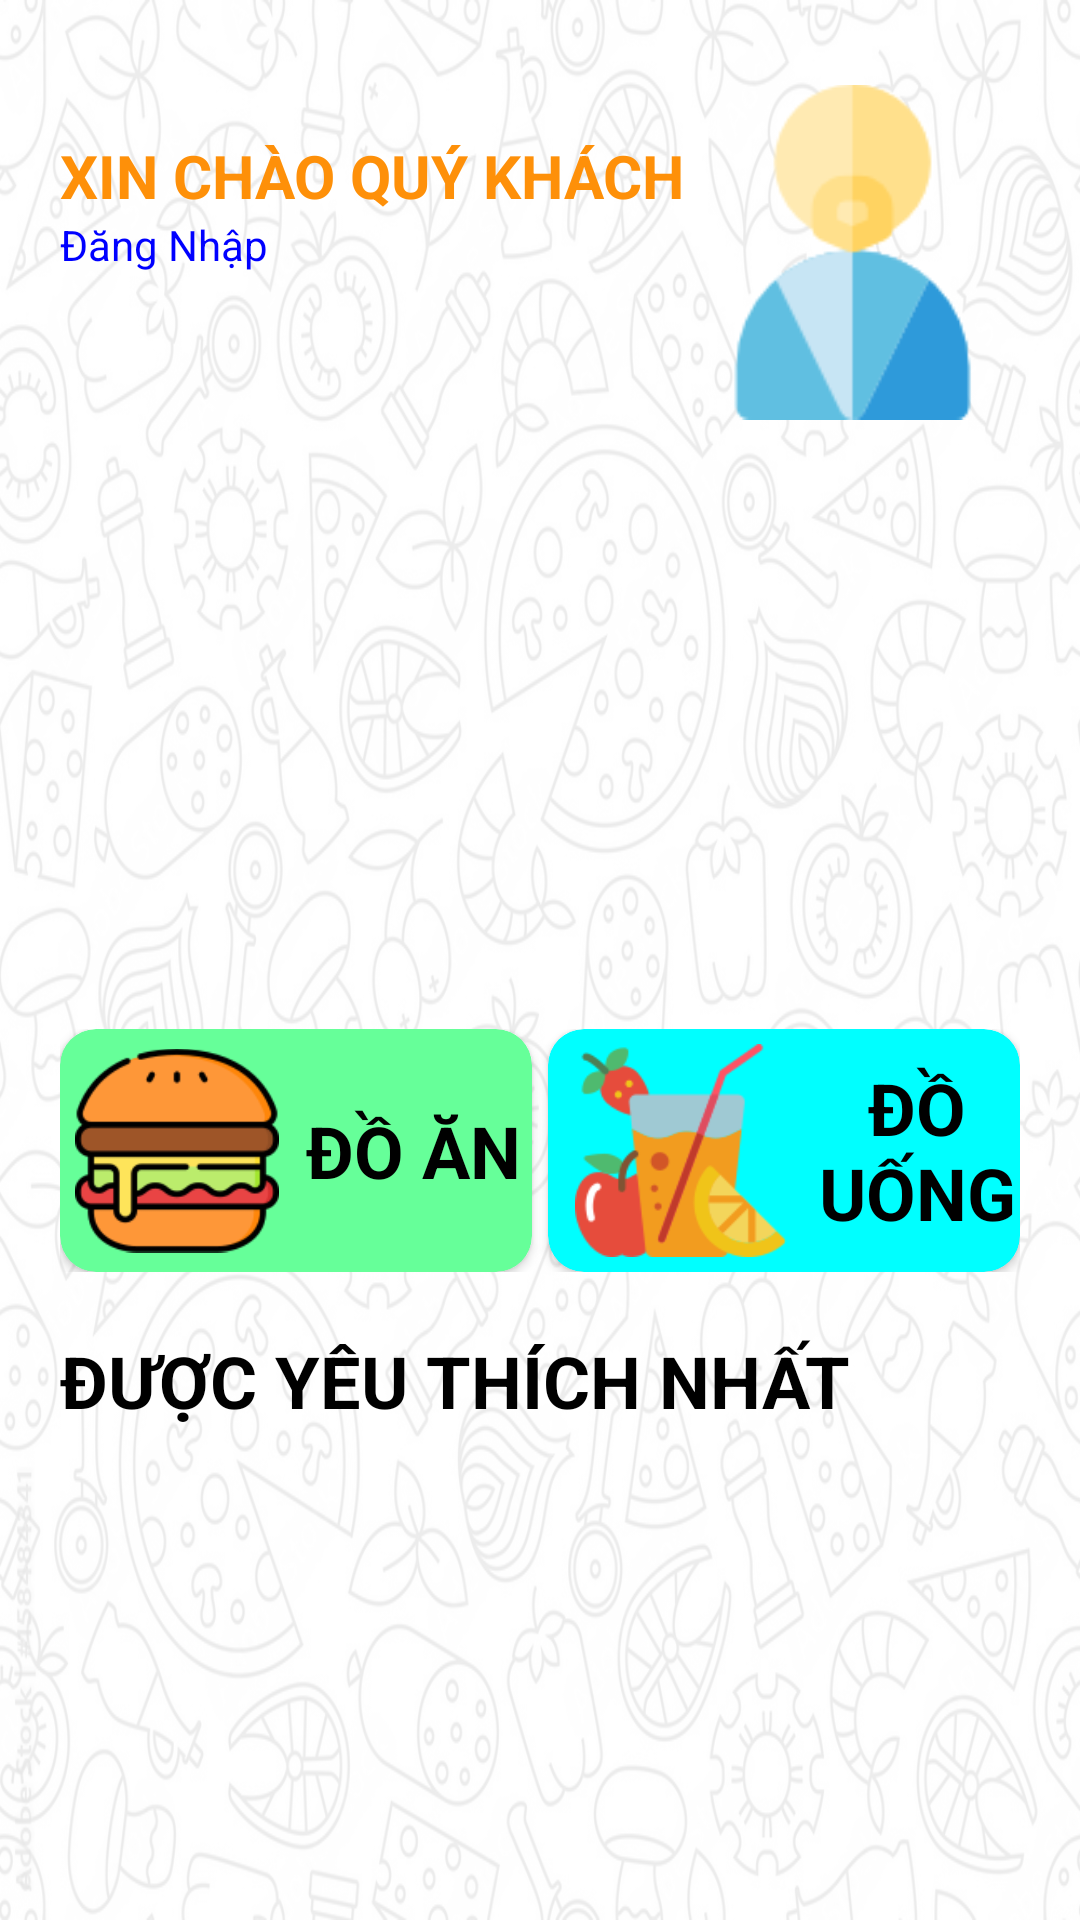

Icons on this 1080 × 1920 Android screen, each with the point to tap as (x=x, y=y):
drink: (x=680, y=1150)
food: (x=177, y=1151)
